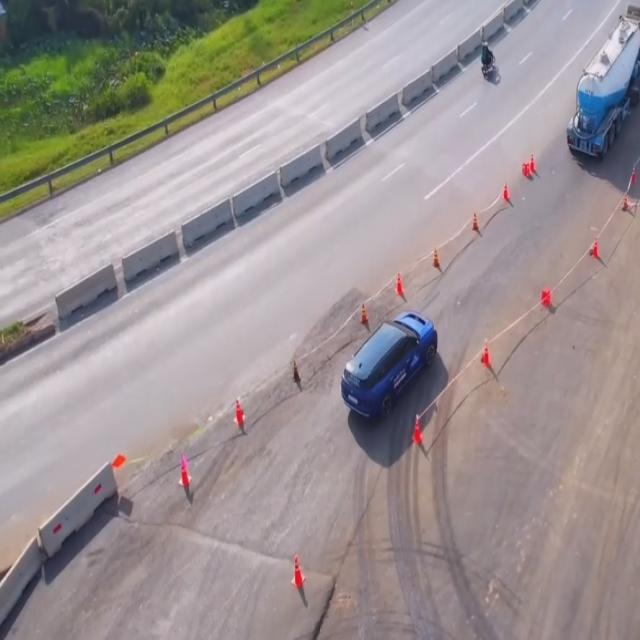car: (341, 310, 441, 423)
motorbike: (480, 41, 496, 82)
truck: (567, 0, 640, 163)
